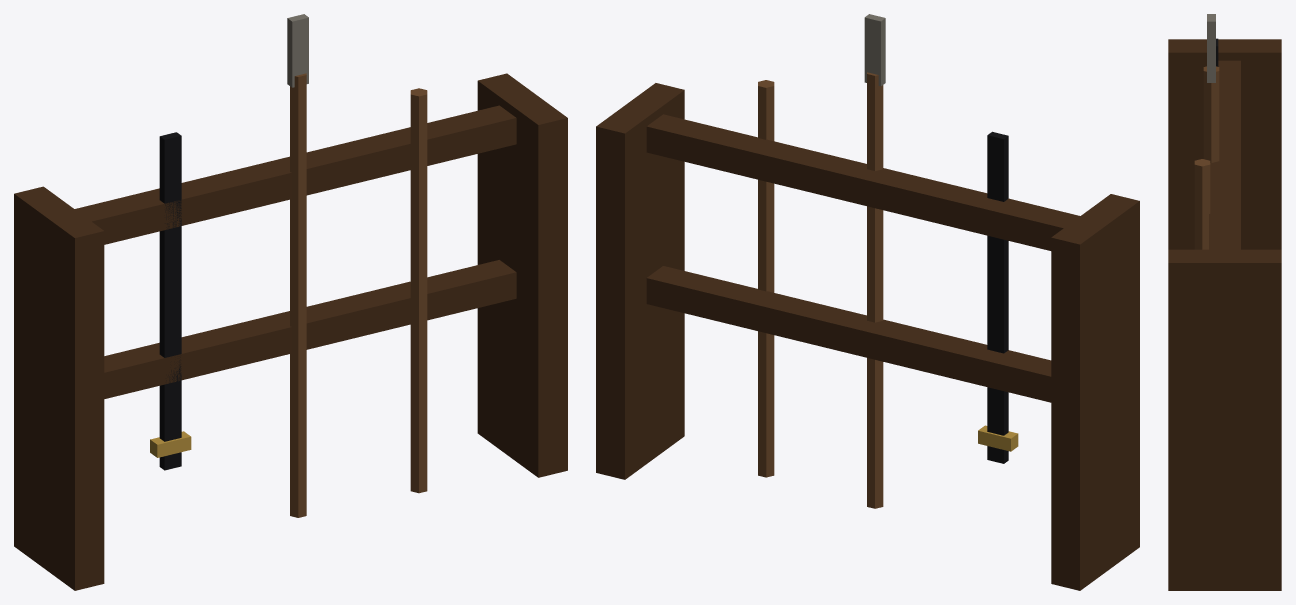
The model's file is weapon-rack.glb.
The picture shows the model from 3 angles, left to right: view 1: azimuth 30°, elevation 25°; view 2: azimuth 150°, elevation 25°; view 3: azimuth 270°, elevation 25°; orthographic projection. The views are drawn at different scales.
Parts seen in each view (by area): view 1: weapon-rack; view 2: weapon-rack; view 3: weapon-rack.
Part boxes in pixels (x1,y1,x2,y2): weapon-rack: (14,14,567,590); weapon-rack: (596,14,1139,590); weapon-rack: (1168,14,1281,590).
Size of the model in its own units: 2.34 by 2.25 by 0.5.
